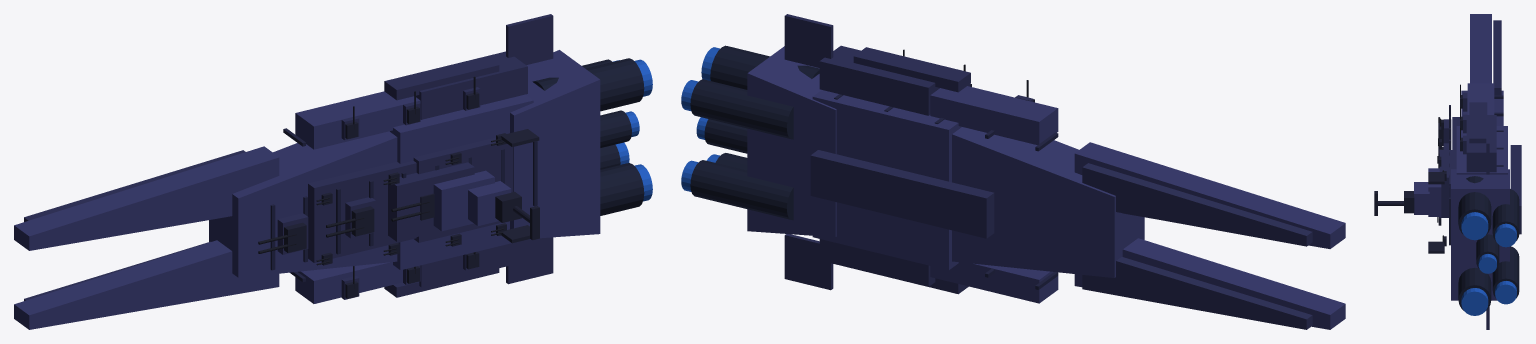
Rendered from LFS-01_Albion_Nova_v2.obj.
3 views of the same model, side by side, from view 1: azimuth 30°, elevation 25°; view 2: azimuth 150°, elevation 25°; view 3: azimuth 270°, elevation 25° (orthographic). The views are drawn at different scales.
Visible parts, largest first — view 1: Main_Hull_Aft, Bow_Starboard, Main_Hull_Forward, Bow_Port, Main_Hull_Mid, Dorsal_Armor_Fwd, Sponson_1_Fwd, Sponson_1_Aft, Bridge_Base, Dorsal_Armor_Mid, Sponson_-1_Fwd, Engine_1 (+16 smaller); view 2: Main_Hull_Forward, Main_Hull_Mid, Main_Hull_Aft, Ventral_Keel, Lower_Bow_Starboard, Lower_Bow_Port, Bow_Starboard, Bow_Port, Sponson_1_Fwd, Sponson_1_Aft, Engine_2, Engine_3 (+7 smaller); view 3: Main_Hull_Aft, Bow_Starboard, Sponson_1_Aft, Main_Hull_Mid, Engine_1, SideArmor_1, Engine_0, Engine_3, Engine_2, Ventral_Keel, Sponson_1_Fwd, Lower_Bow_Starboard (+18 smaller).
Part boxes in pixels (x1,y1,x2,y2): Main_Hull_Aft: (510, 50, 600, 238); Bow_Starboard: (14, 146, 279, 250); Main_Hull_Forward: (209, 131, 397, 277); Bow_Port: (14, 240, 279, 329); Main_Hull_Mid: (390, 94, 533, 270); Dorsal_Armor_Fwd: (308, 161, 416, 262); Sponson_1_Fwd: (295, 91, 420, 149); Sponson_1_Aft: (416, 51, 527, 119); Bridge_Base: (388, 162, 474, 241); Dorsal_Armor_Mid: (413, 137, 513, 242); Sponson_-1_Fwd: (295, 262, 402, 303); Engine_1: (532, 58, 644, 111); Main_Hull_Forward: (952, 127, 1144, 277); Main_Hull_Mid: (812, 90, 961, 270); Main_Hull_Aft: (747, 46, 836, 237); Ventral_Keel: (810, 150, 994, 238); Lower_Bow_Starboard: (1082, 163, 1312, 246); Lower_Bow_Port: (1082, 257, 1312, 329); Bow_Starboard: (1074, 142, 1345, 248); Bow_Port: (1074, 238, 1345, 329); Sponson_1_Fwd: (930, 86, 1058, 145); Sponson_1_Aft: (819, 45, 939, 115); Engine_2: (690, 160, 793, 220); Engine_3: (690, 79, 793, 139); Main_Hull_Aft: (1451, 169, 1509, 300); Bow_Starboard: (1470, 14, 1491, 83); Sponson_1_Aft: (1466, 115, 1496, 172); Main_Hull_Mid: (1456, 126, 1507, 174); Engine_1: (1458, 176, 1491, 234); SideArmor_1: (1469, 102, 1487, 143); Engine_0: (1458, 268, 1491, 310); Engine_3: (1492, 189, 1519, 240); Engine_2: (1492, 246, 1519, 298); Ventral_Keel: (1510, 145, 1521, 234); Sponson_1_Fwd: (1467, 83, 1494, 114); Lower_Bow_Starboard: (1493, 20, 1501, 95).
Bounding box in the file's own units: 1506 × 600 × 429.
